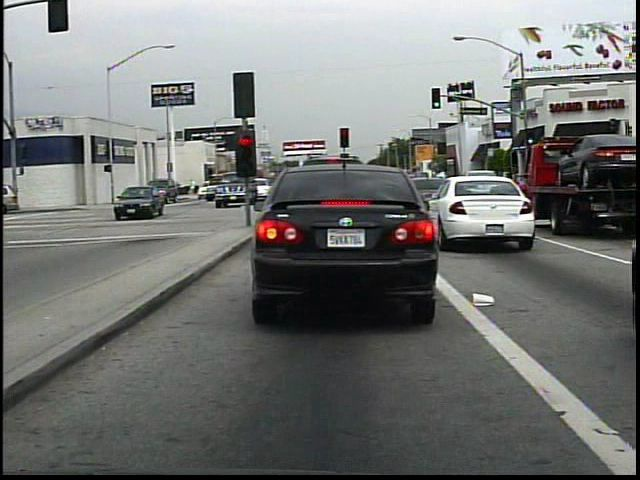person: (188, 175, 199, 200)
